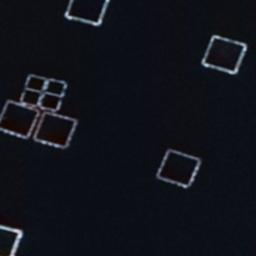square_divide: (19, 69, 70, 113)
square_solid: (150, 143, 205, 190), (196, 32, 249, 78), (29, 107, 80, 154), (1, 98, 40, 141), (60, 1, 114, 27), (1, 217, 26, 256)
